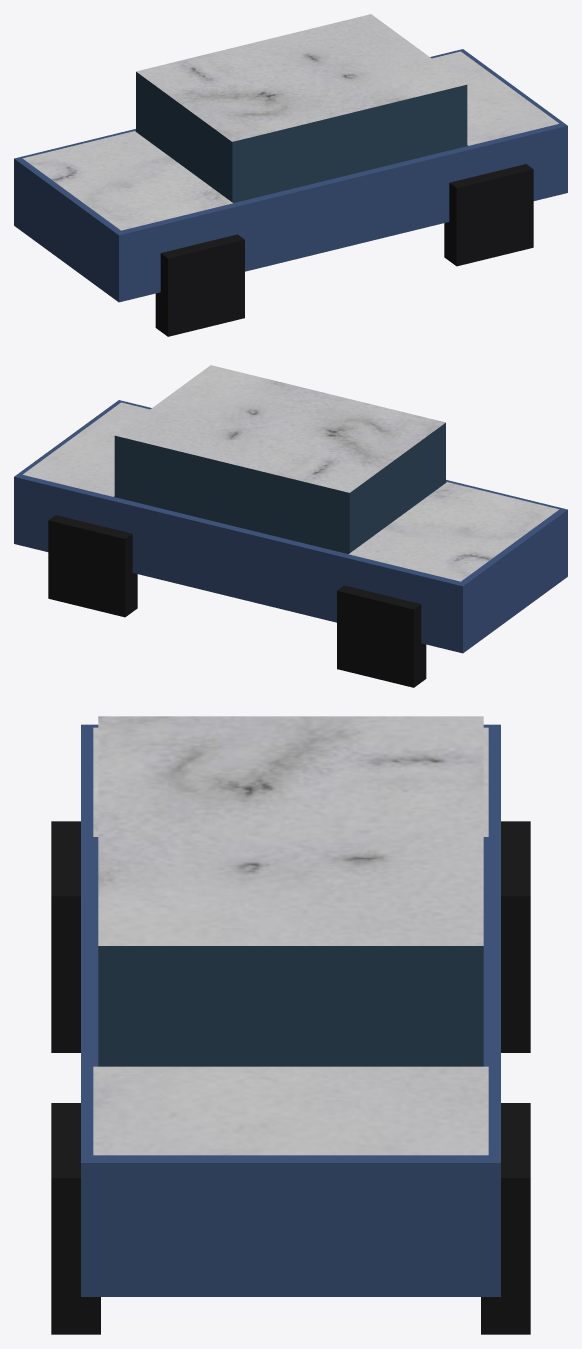
File: c_car2.glb
The picture shows the model from 3 angles, top to bottom: view 1: azimuth 30°, elevation 25°; view 2: azimuth 150°, elevation 25°; view 3: azimuth 270°, elevation 25°; orthographic projection. The views are drawn at different scales.
Parts seen in each view (by area): view 1: Car; view 2: Car; view 3: Car.
Part boxes in pixels (<box>): Car: <box>14,14,567,336</box>; Car: <box>14,365,567,687</box>; Car: <box>51,716,530,1334</box>.
Bounding box in the file's own units: 4.2 × 1.5 × 1.94.
Materials: 2 (2 with a texture image).
